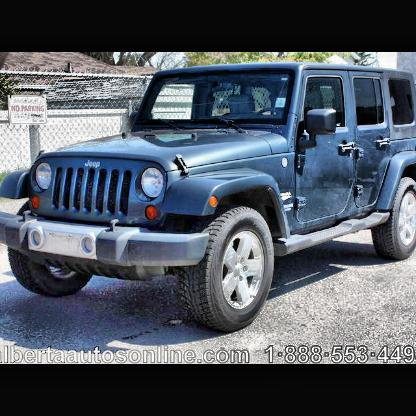Jeep Wrangler SUV 2012: (2, 60, 416, 336)
